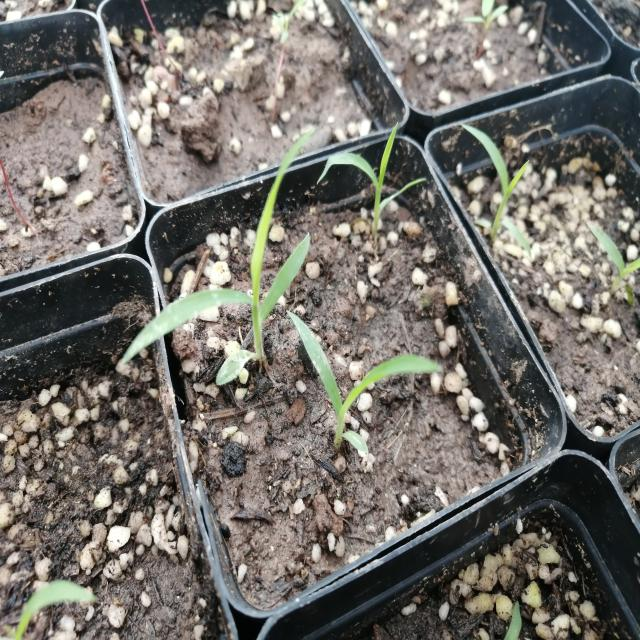crabgrass: (110, 134, 328, 374), (296, 322, 455, 448), (453, 126, 552, 256), (335, 133, 423, 224)
